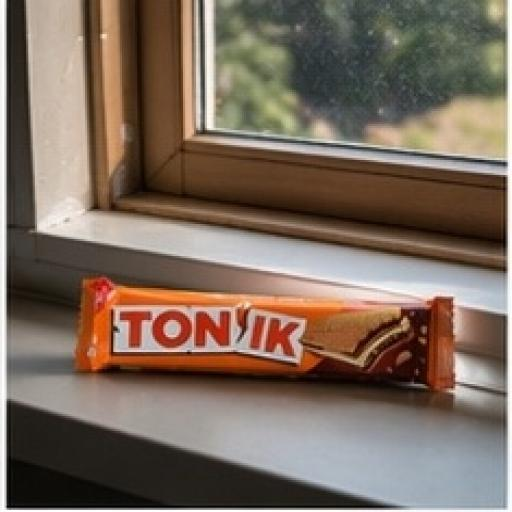tonik: (51, 179, 471, 441)
